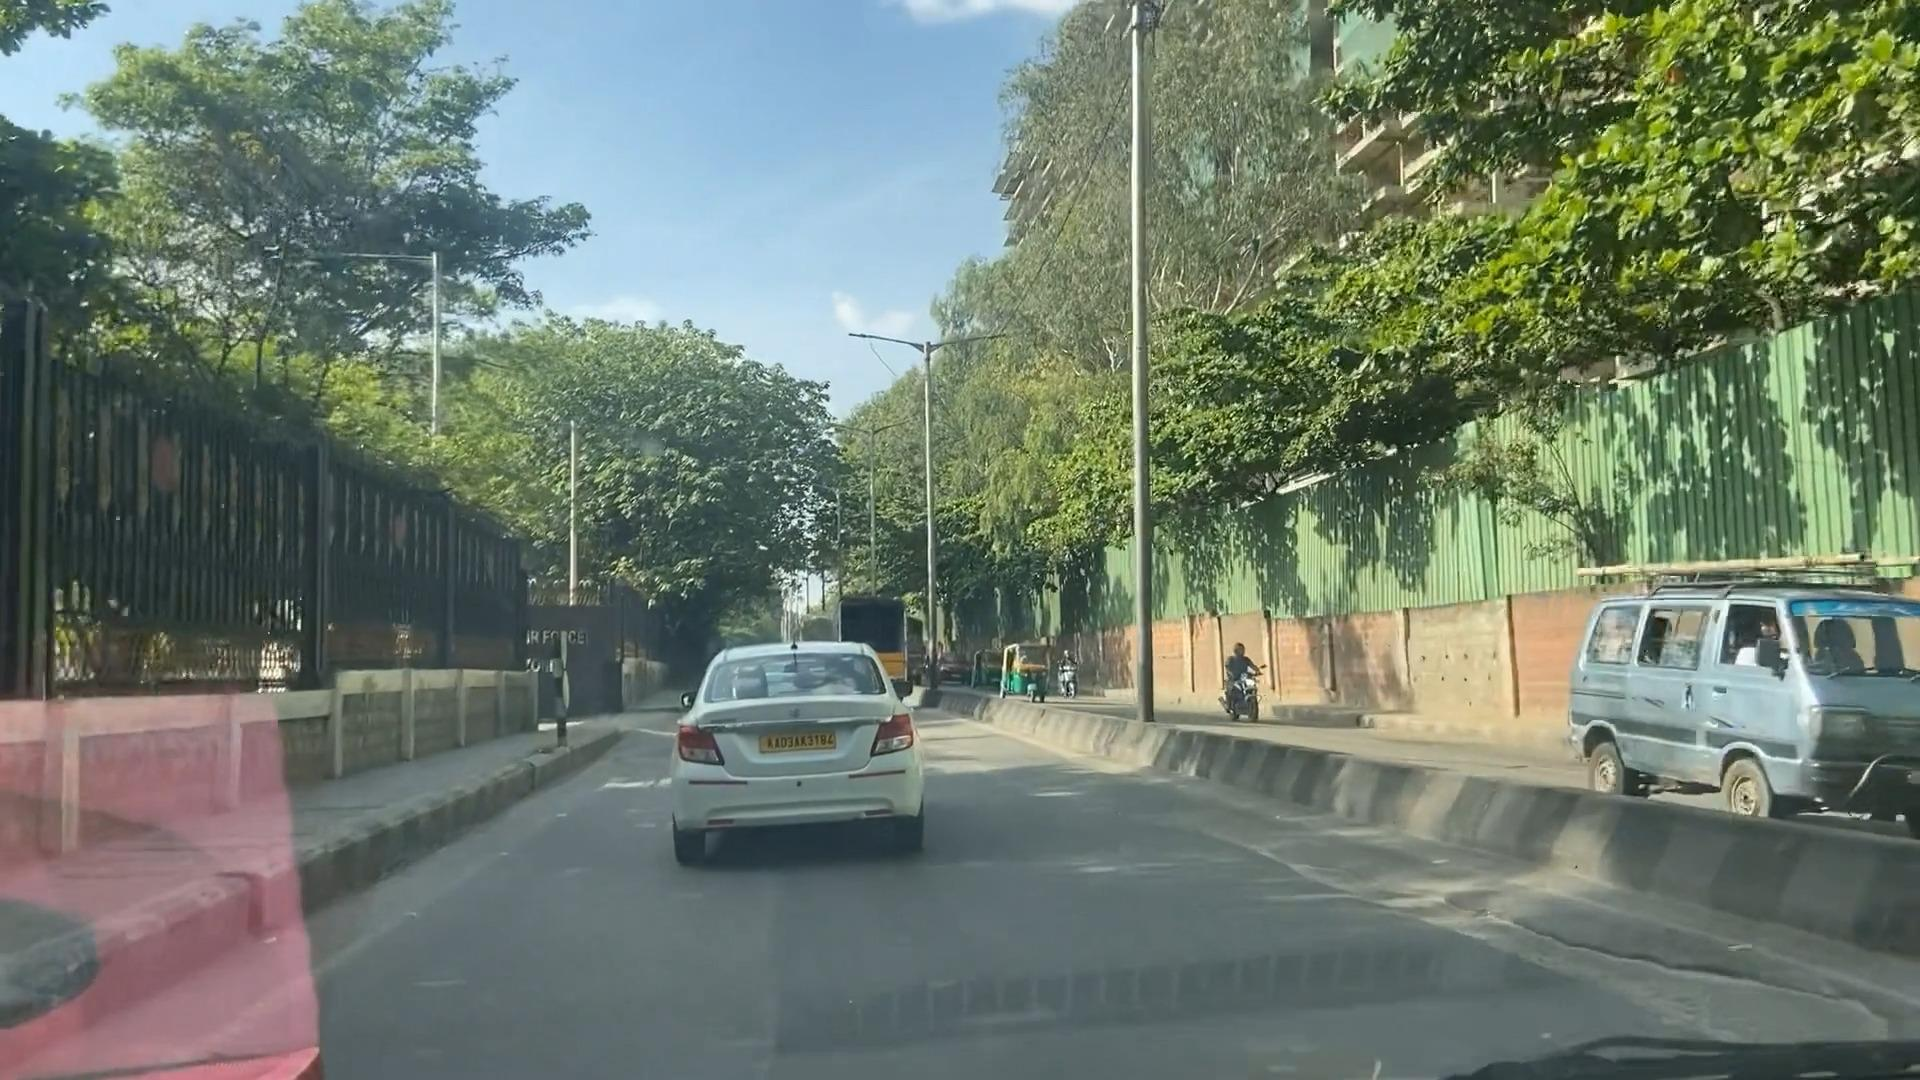HMV: (828, 571, 938, 716)
RoadDamages: (1410, 845, 1862, 1039), (1159, 790, 1403, 923)
